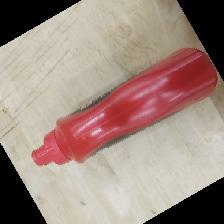Tuong: (30, 46, 219, 166)
